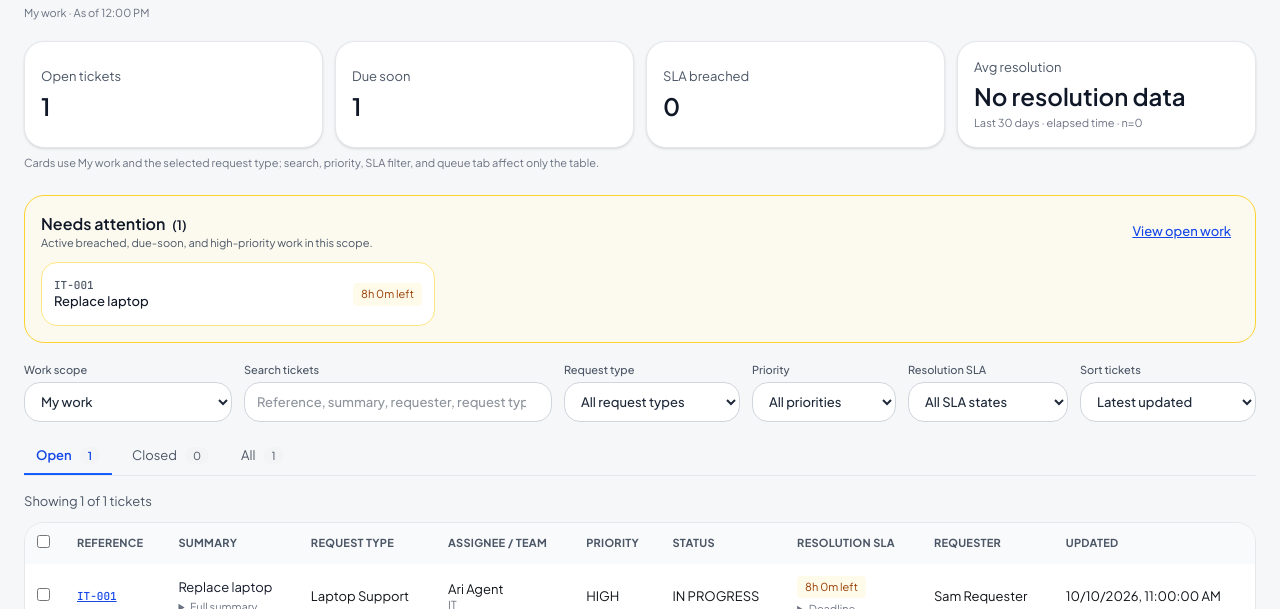
Test case: AgentDashboard › shows an accessible error when export fails
The width and height of the screenshot is (1280, 609).
Click the checkbox named "Select IT-001" at (44, 595), box [37,588,50,601]
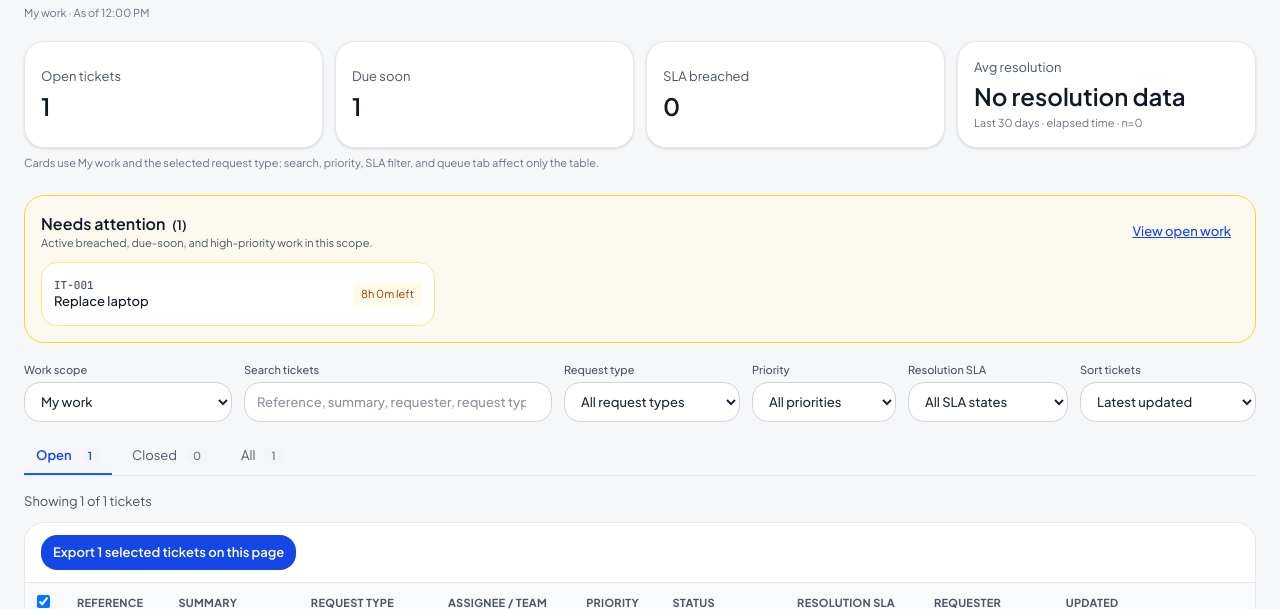
Click the button "Export 1 selected tickets on this page" at (169, 552), box [41,535,296,570]
(page scrolled)
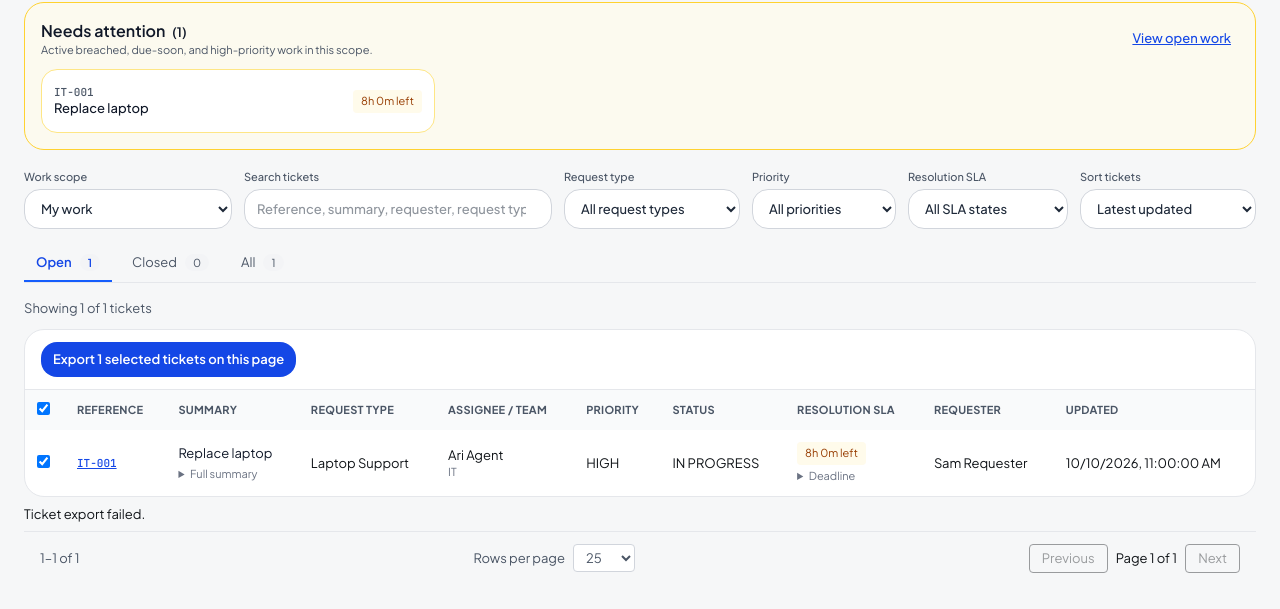
Check: the message "Ticket export failed." is shown, box [24,506,145,522]
